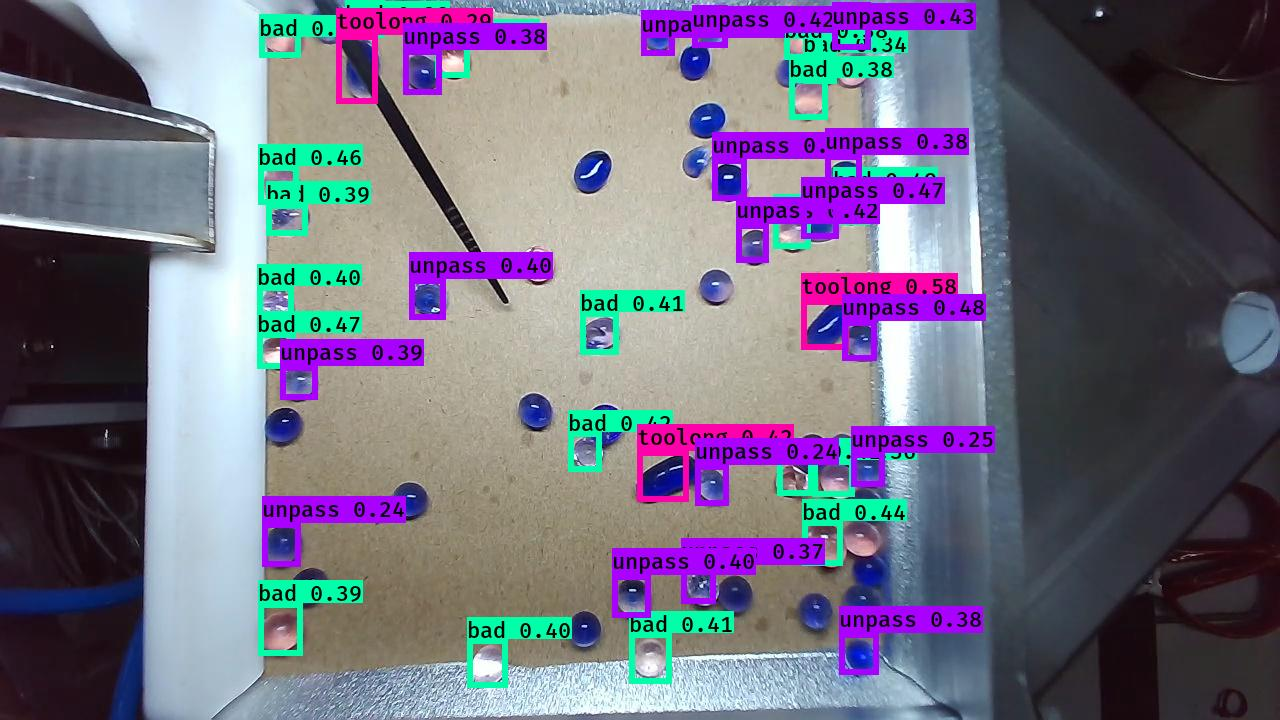bad: (800, 521, 851, 568), (254, 611, 307, 655), (259, 16, 305, 60), (782, 16, 825, 63), (627, 637, 671, 682), (580, 314, 625, 357), (468, 644, 508, 688), (260, 167, 304, 205), (258, 288, 298, 329), (794, 77, 830, 122), (817, 461, 859, 499), (519, 246, 559, 285), (345, 1, 384, 40), (843, 518, 881, 558), (776, 461, 817, 498), (836, 49, 876, 86), (269, 205, 313, 238), (773, 218, 812, 254), (258, 337, 298, 369), (436, 43, 472, 78), (832, 194, 872, 224), (806, 52, 840, 85), (569, 441, 604, 473)
defact: (681, 145, 715, 182)
pass: (567, 147, 615, 197), (582, 401, 626, 445), (261, 526, 304, 569), (263, 408, 306, 449), (287, 568, 330, 609), (515, 391, 554, 435), (389, 482, 430, 523), (843, 583, 884, 624), (716, 573, 754, 616), (846, 487, 889, 523), (687, 100, 726, 139), (566, 609, 604, 649), (793, 435, 828, 475), (678, 42, 710, 82), (799, 592, 833, 629), (852, 561, 891, 592)
toolong: (635, 450, 696, 507), (341, 39, 381, 104), (804, 301, 855, 350)
unpass: (830, 4, 874, 53), (610, 578, 654, 621), (798, 204, 844, 245), (408, 281, 450, 320), (640, 13, 677, 57), (277, 368, 321, 404), (308, 6, 346, 46), (403, 55, 440, 95), (822, 159, 864, 194), (844, 637, 879, 678), (685, 568, 721, 607), (712, 164, 748, 203), (698, 272, 737, 308), (690, 9, 727, 46), (845, 323, 883, 358), (849, 452, 889, 485), (739, 226, 772, 264), (695, 467, 727, 504), (777, 54, 808, 88), (829, 434, 859, 466)
